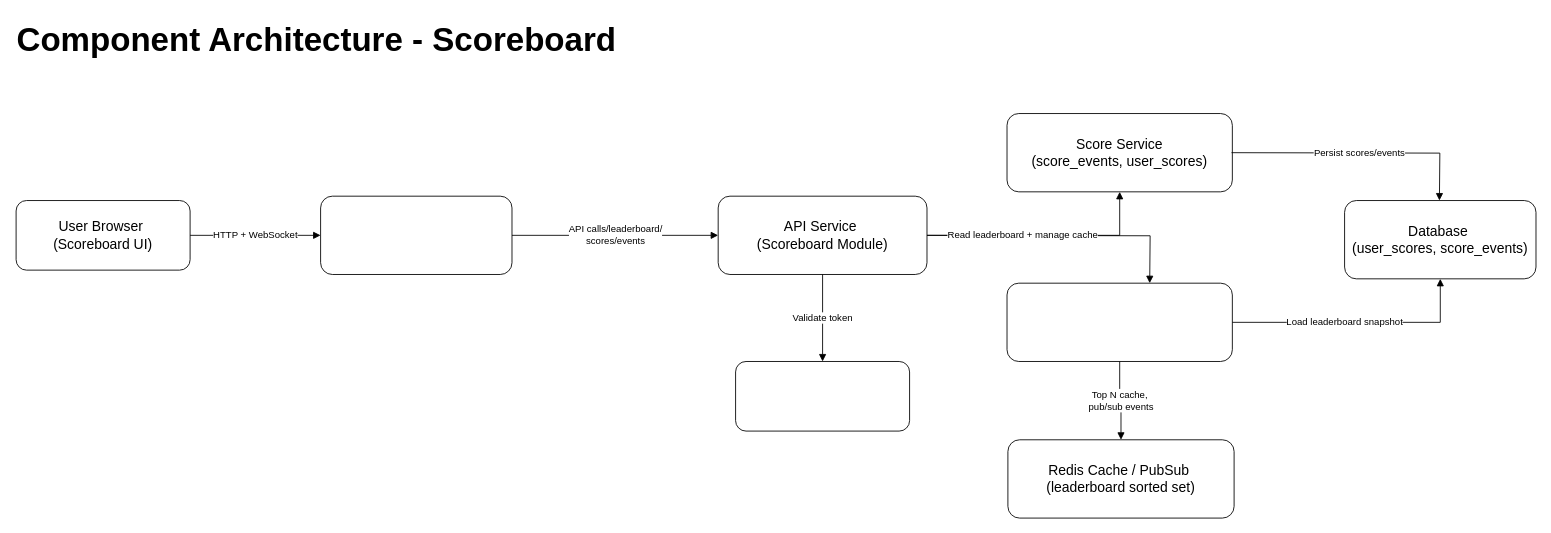
This 1551x533 diagram has some shape labels left out. Each missing label, with the box of its shape:
Auth Layer (JWT / Session): (735, 361, 910, 431)
Frontend Web App (SPA / Web UI): (320, 195, 512, 274)
Leaderboard Service (top N lookup, cache mgmt): (1006, 282, 1232, 361)
